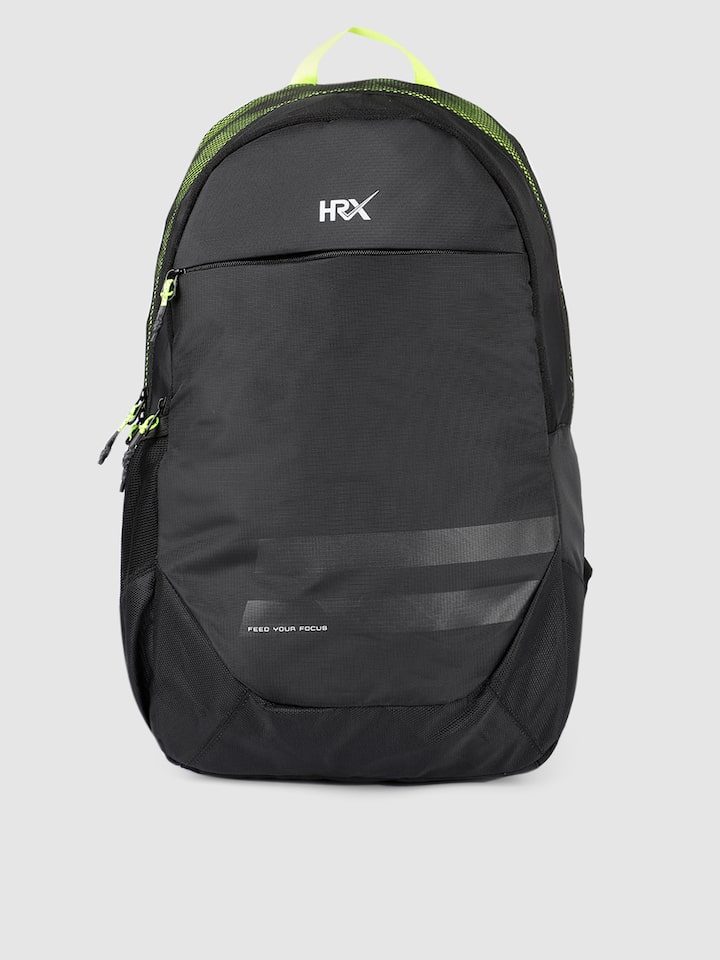backpack: (100, 26, 593, 785)
